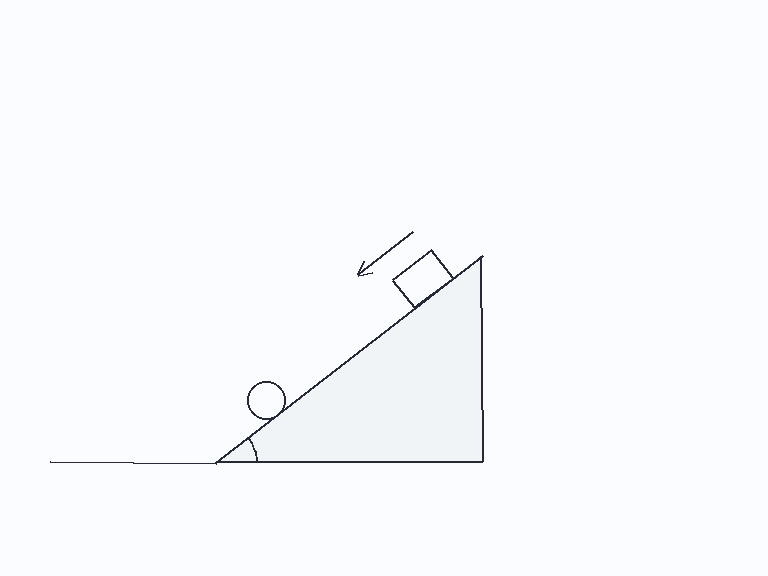ball: (245, 379, 287, 421)
block: (390, 248, 455, 310)
ramp: (215, 253, 484, 464)
